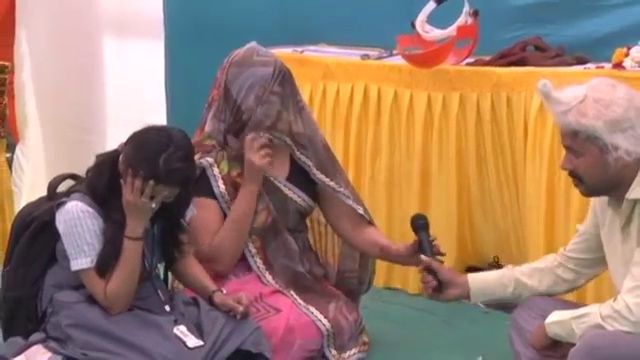helmet_off: (207, 43, 313, 165), (537, 82, 640, 205), (112, 127, 199, 221)
person: (188, 40, 441, 357), (416, 77, 640, 360), (4, 127, 261, 360)
